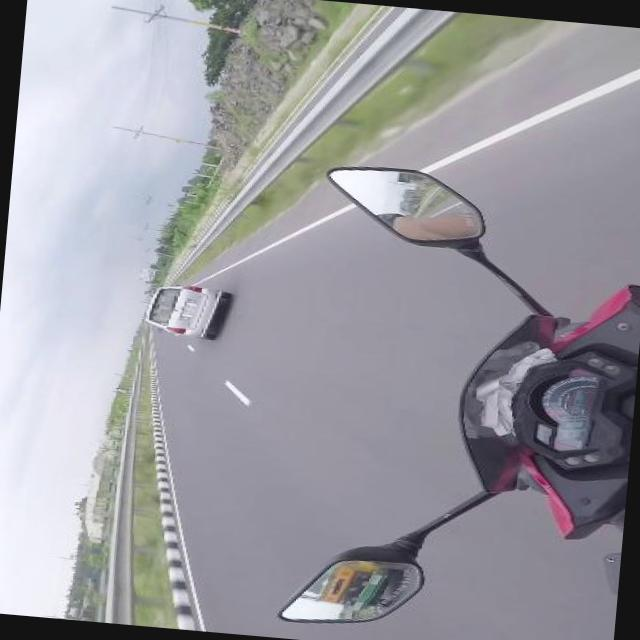car: (140, 278, 234, 342)
motorcycle: (277, 159, 640, 640)
